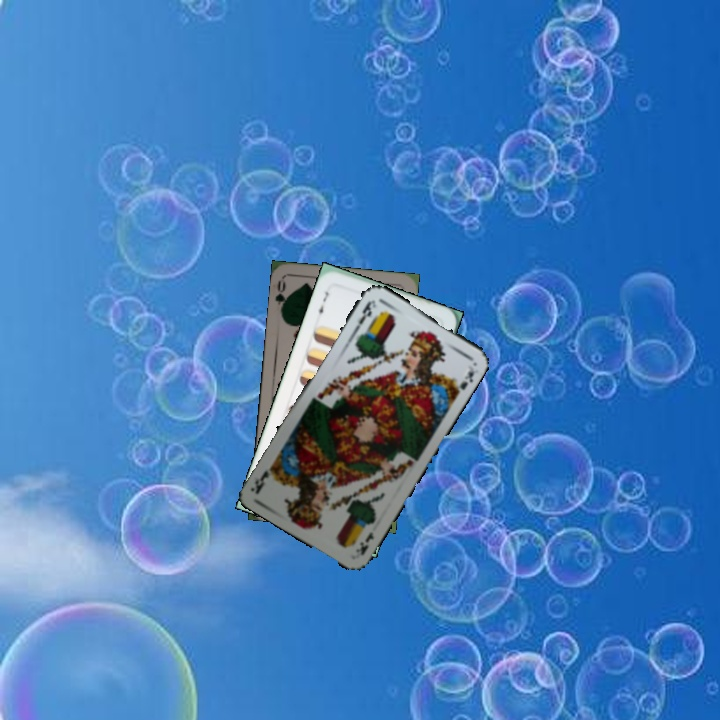E7: (313, 287, 332, 320)
EK: (350, 296, 379, 334), (352, 528, 377, 558)
GO: (271, 276, 292, 317)
